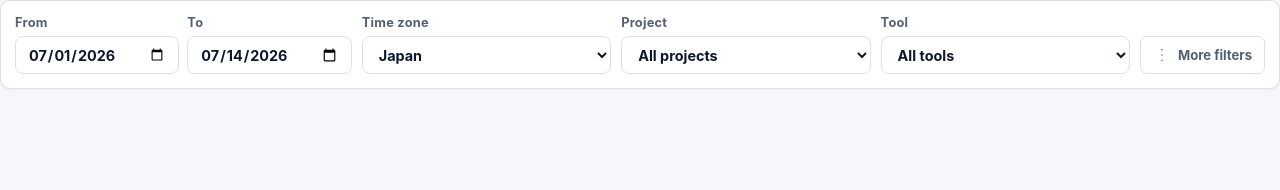
Test: FilterToolbar › keeps time zone visible and discloses device and model filters
Expected: the date field labelled "From" is shown, [15,36,179,74]
Expected: the dropdown labelled "Time zone" is shown, [362,36,611,74]
Click the button "More filters" at x=1202, y=55, box [1140,36,1265,74]
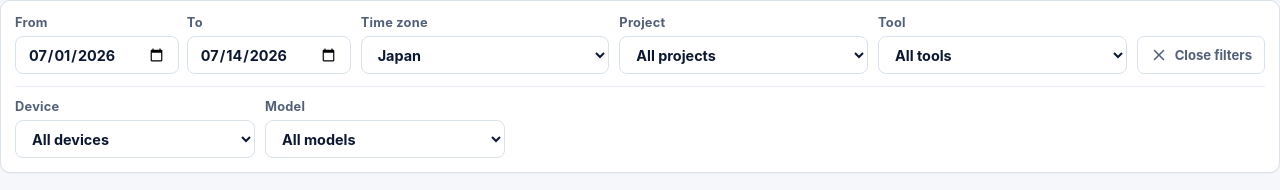
Now the button named "More filters" is expanded, box [1137,36,1265,74]
Now the dropdown labelled "Device" is shown, box [15,120,255,158]
Now the dropdown labelled "Model" is shown, box [265,120,505,158]
